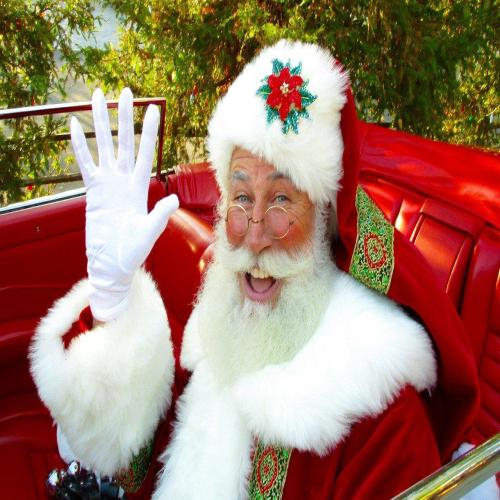Santa: (29, 38, 441, 500)
